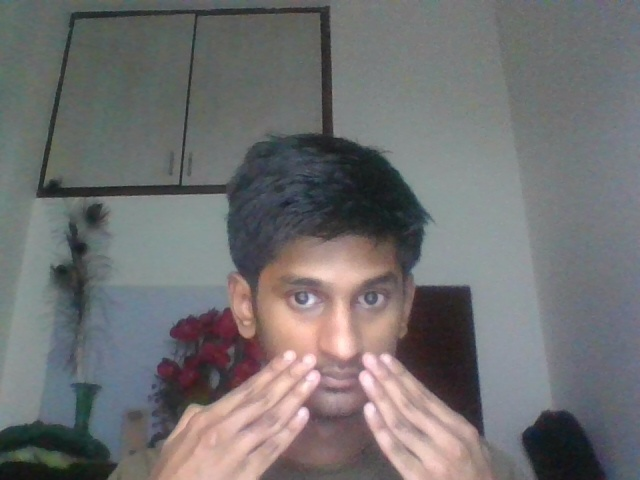Thank You: (151, 348, 503, 478)
